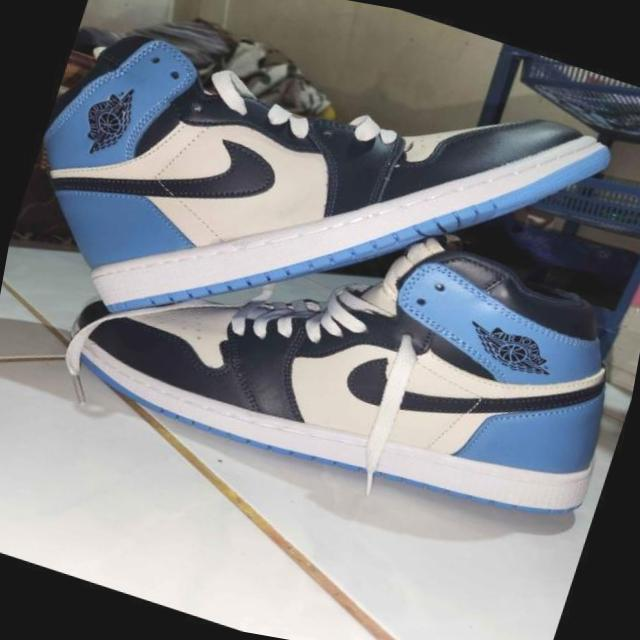nike_fake_jordan: (0, 0, 640, 458), (35, 130, 640, 550)
